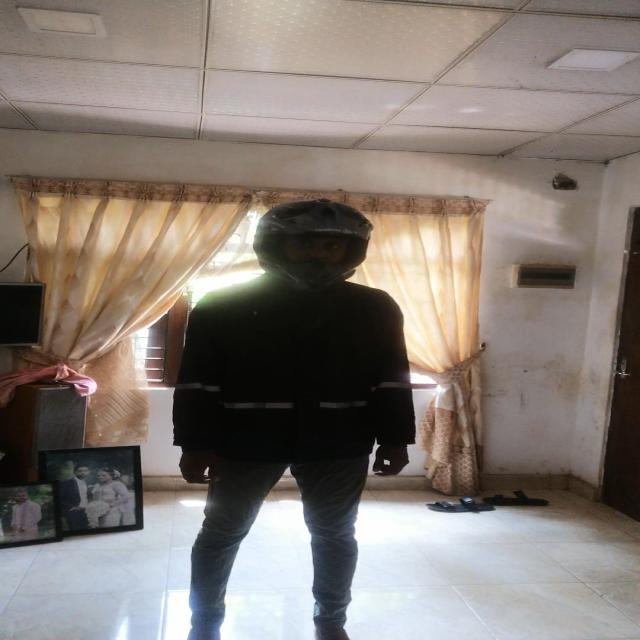Helmet_Wearer: (242, 193, 382, 294)
Jacket_Wearer: (184, 272, 415, 488)
Person: (175, 192, 412, 640)
